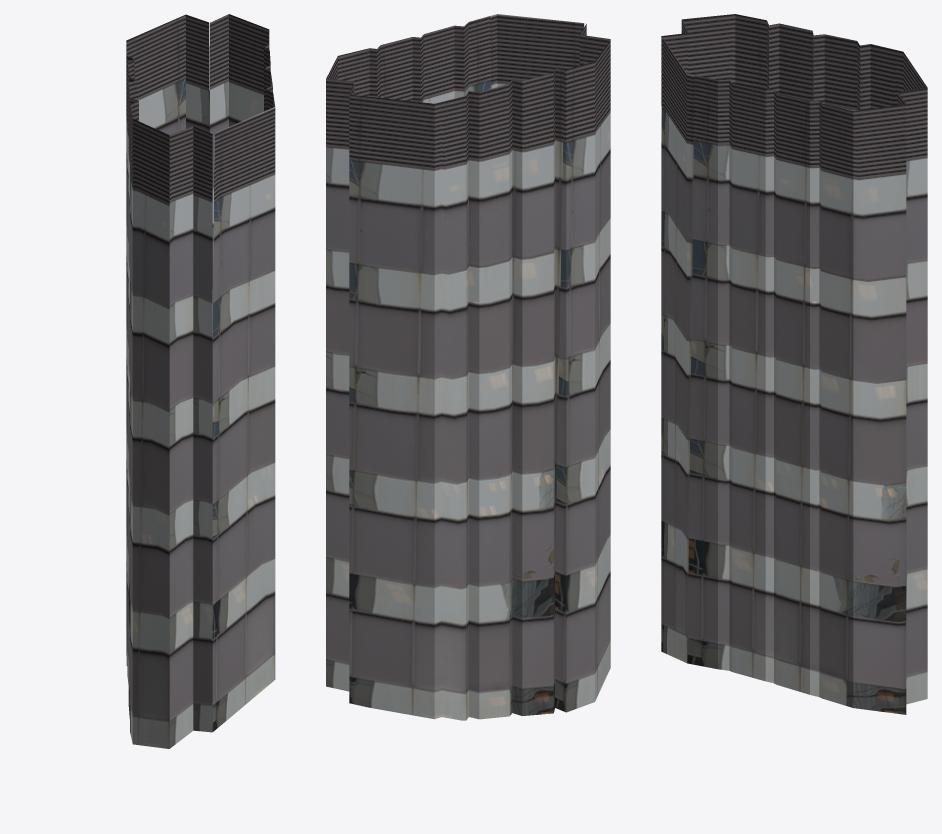
File: building_005.fbx
3 renders of one model, left to right at view 1: azimuth 30°, elevation 25°; view 2: azimuth 150°, elevation 25°; view 3: azimuth 270°, elevation 25°, orthographic. The views are drawn at different scales.
Parts seen in each view (by area): view 1: Areas:building.005; view 2: Areas:building.005; view 3: Areas:building.005.
Boxes of the visible parts, box(x1,y1,x2,y2) form: Areas:building.005: box(126, 14, 275, 748); Areas:building.005: box(326, 14, 610, 720); Areas:building.005: box(661, 14, 927, 714).
Bounding box in the file's own units: 1456 × 3600 × 1233.
